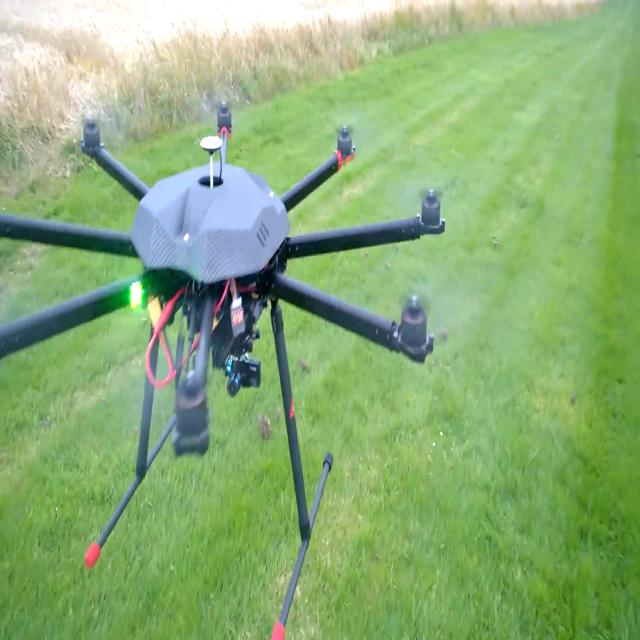drone: (0, 93, 450, 640)
